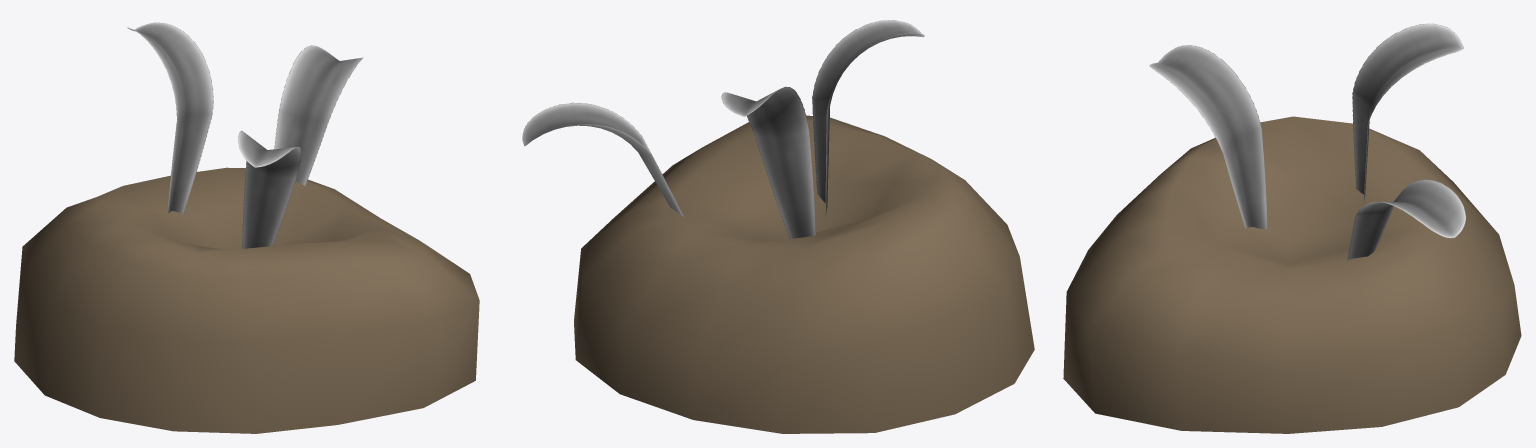
The model's file is Sapling_TongueBush.fbx.
3 renders of one model, left to right at view 1: azimuth 30°, elevation 25°; view 2: azimuth 150°, elevation 25°; view 3: azimuth 270°, elevation 25°, orthographic. The views are drawn at different scales.
Parts seen in each view (by area): view 1: Sapling_TongueBush; view 2: Sapling_TongueBush; view 3: Sapling_TongueBush.
Part boxes in pixels (box(x1,y1,x2,y2)): Sapling_TongueBush: box(14, 22, 479, 433); Sapling_TongueBush: box(522, 20, 1034, 433); Sapling_TongueBush: box(1063, 23, 1521, 433).
Bounding box in the file's own units: 54.31 × 36.72 × 50.78.
2 materials, 1 textured.
